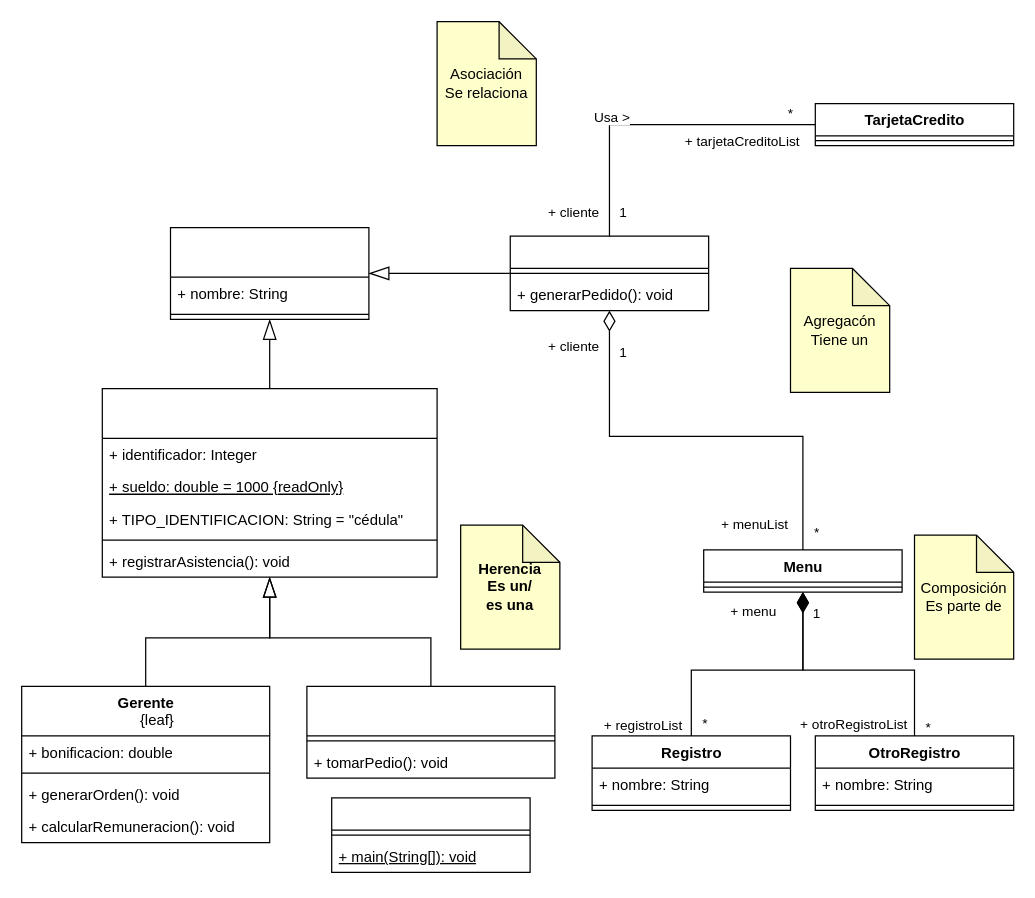
The diagram is 1035 pixels wide and 898 high, and some of its shapes have lost their labels. The shapes that lost their labels are listed below. From the top down, each one's box as (x1, y1, x2, y2) in pixels, then its label:
(169, 226, 369, 319): Persona {root}
(509, 235, 709, 311): Cliente
(101, 388, 437, 577): Empleado {abstract}
(306, 685, 555, 778): Mesero {leaf}
(330, 797, 530, 872): Pizzeria
